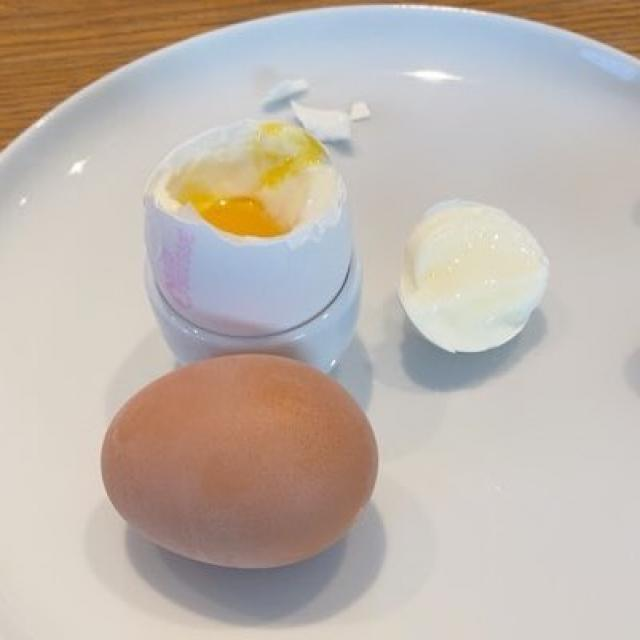egg: (117, 115, 387, 559)
